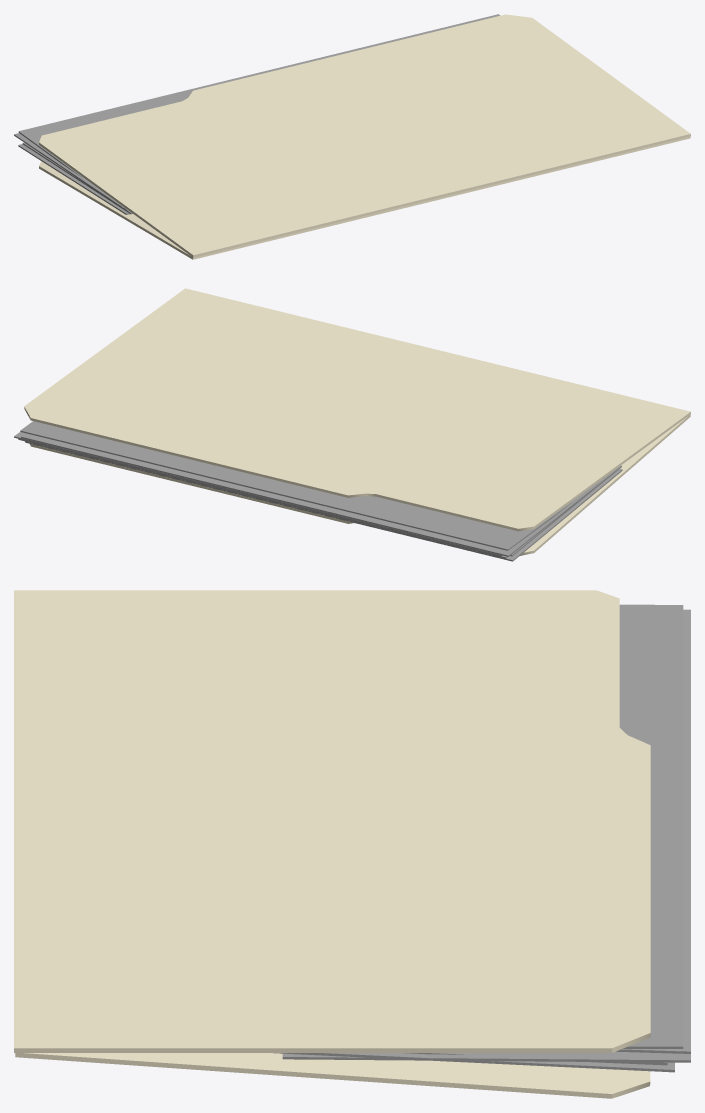
The model's file is ManillaFolder.fbx.
3 views of the same model, one above another, from view 1: azimuth 30°, elevation 25°; view 2: azimuth 150°, elevation 25°; view 3: azimuth 270°, elevation 25° (orthographic). The views are drawn at different scales.
Visible parts, largest first — view 1: pCube10; view 2: pCube10; view 3: pCube10.
Part boxes in pixels (left/top/right/bottom): pCube10: left=14, top=14, right=690, bottom=259; pCube10: left=14, top=288, right=690, bottom=561; pCube10: left=14, top=590, right=690, bottom=1098.
Size of the model in its own units: 2.65 by 0.1439 by 1.66.
